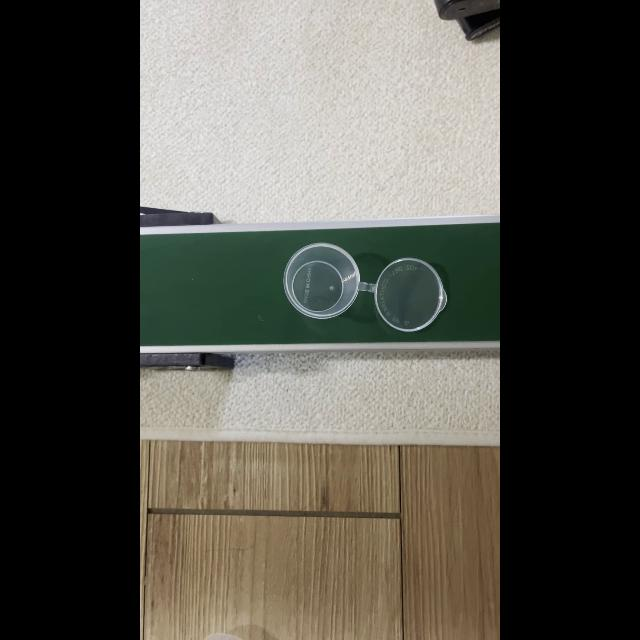clean: (288, 244, 354, 324), (373, 262, 431, 328)
